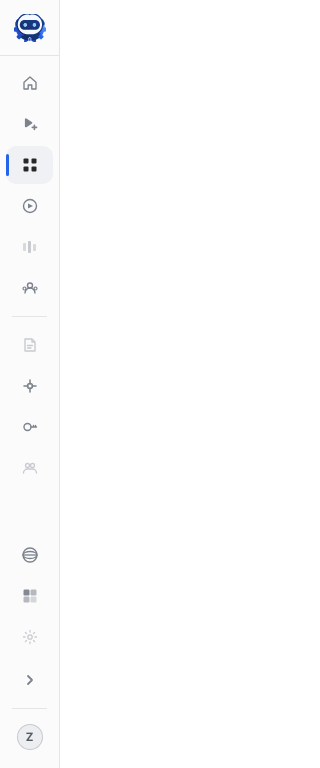
Sidebar › responds to hover, focus-within, and explicit expansion
The width and height of the screenshot is (320, 768).
Hover over the element showing "Z": (30, 384) [0,0,60,767]
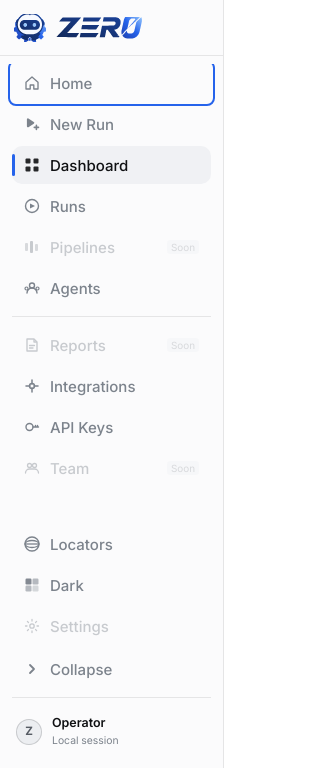
Click the button with aria-label "Expand menu": (112, 669) [12,650,211,688]
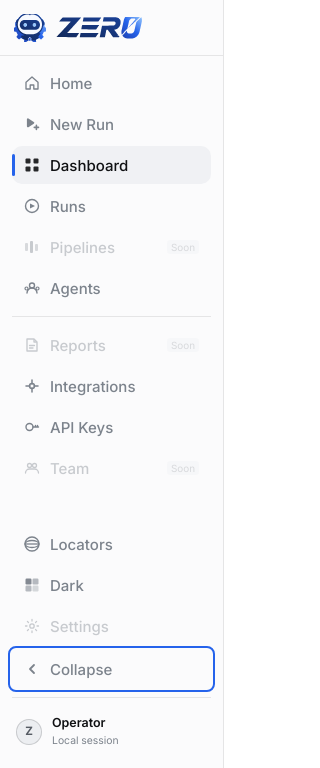
Expected: the button with aria-label "Collapse menu" is expanded, [12,650,211,688]
